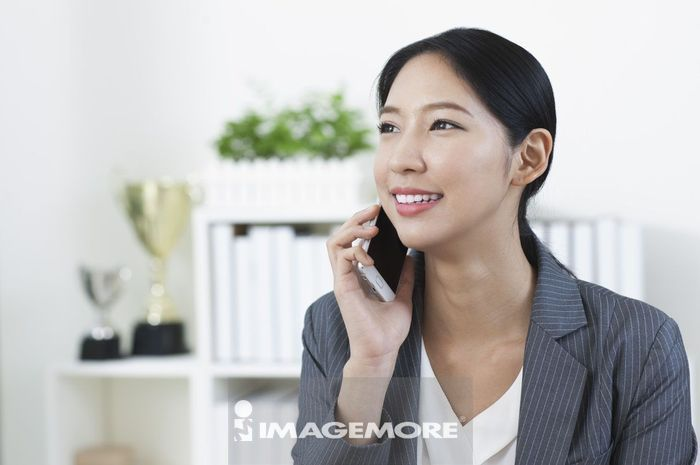phone: (358, 202, 410, 309)
talk: (325, 91, 481, 373)
